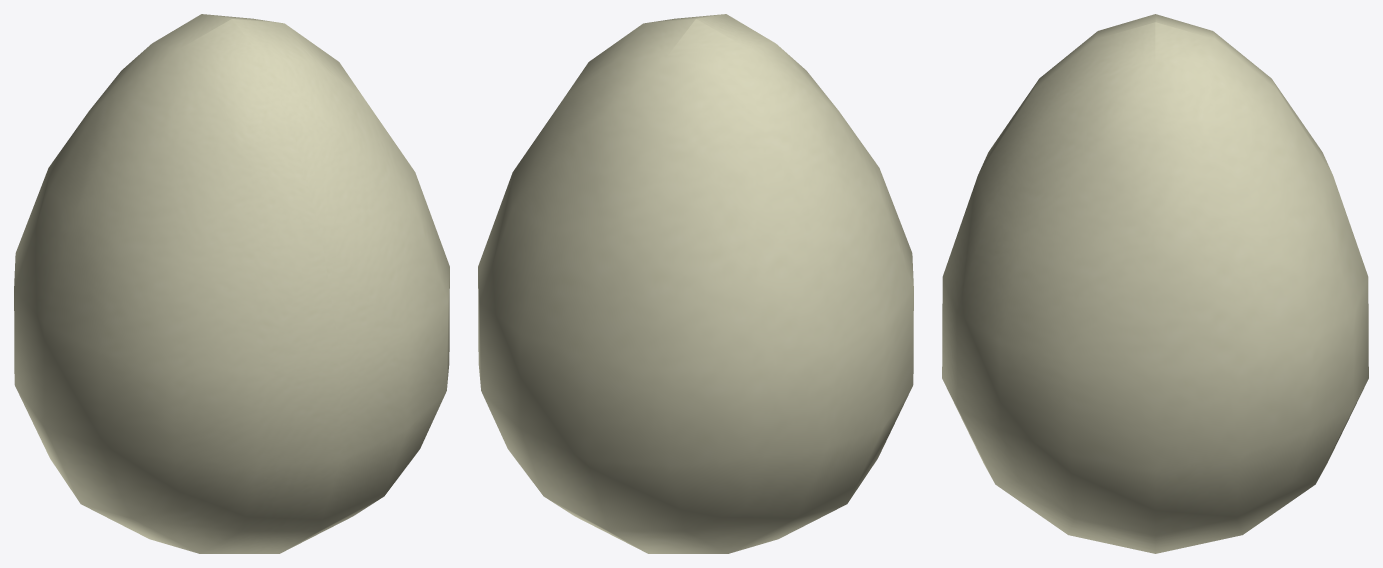
Rendered from eggsingle.fbx.
3 renders of one model, left to right at view 1: azimuth 30°, elevation 25°; view 2: azimuth 150°, elevation 25°; view 3: azimuth 270°, elevation 25°, orthographic.
Parts seen in each view (by area): view 1: eggsingle; view 2: eggsingle; view 3: eggsingle.
Part boxes in pixels (bbox=[...]): eggsingle: bbox=[14, 14, 449, 553]; eggsingle: bbox=[478, 14, 913, 553]; eggsingle: bbox=[942, 14, 1368, 553].
Bounding box in the file's own units: 0.4311 × 0.5676 × 0.4311.
